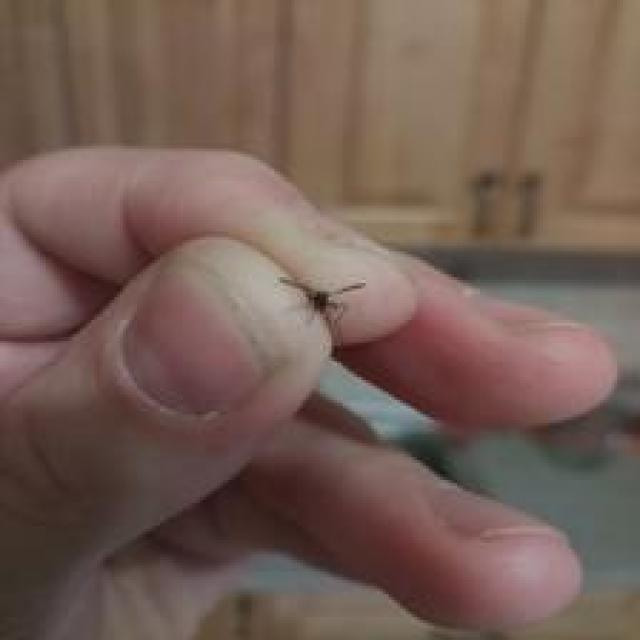Aedes albopictus: (276, 274, 367, 349)
